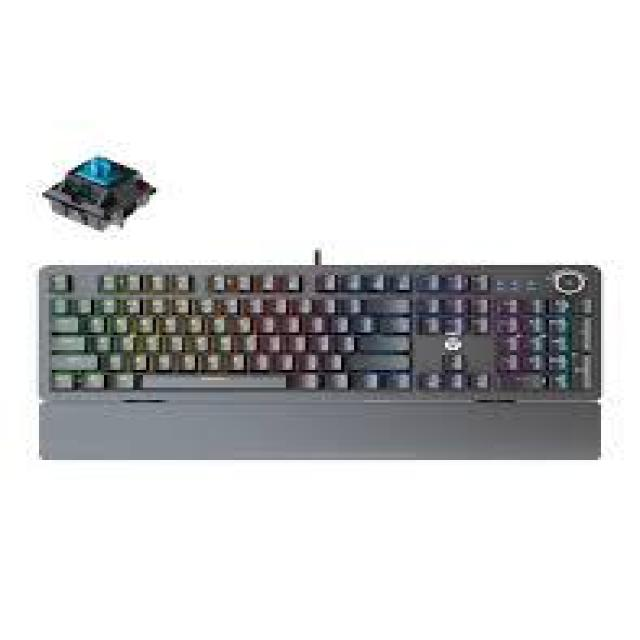keyboard: (48, 271, 596, 398)
